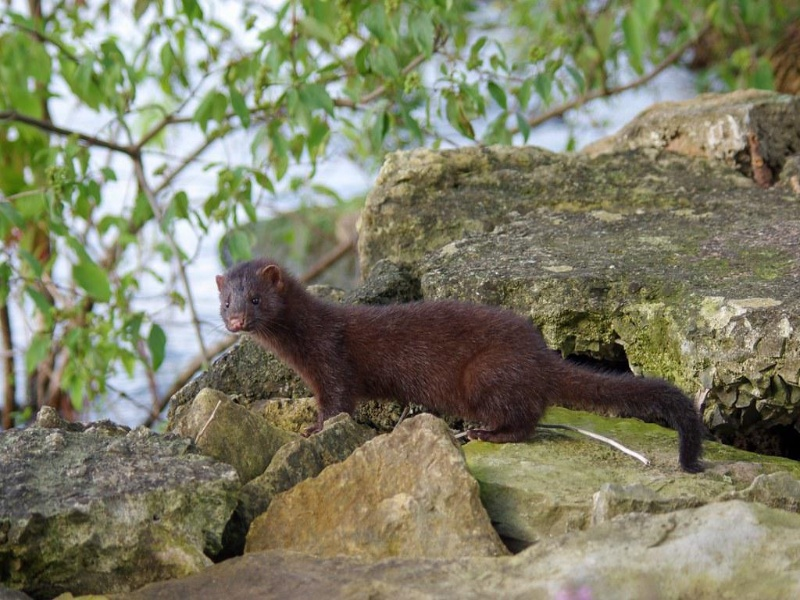minkish: (214, 257, 707, 474)
